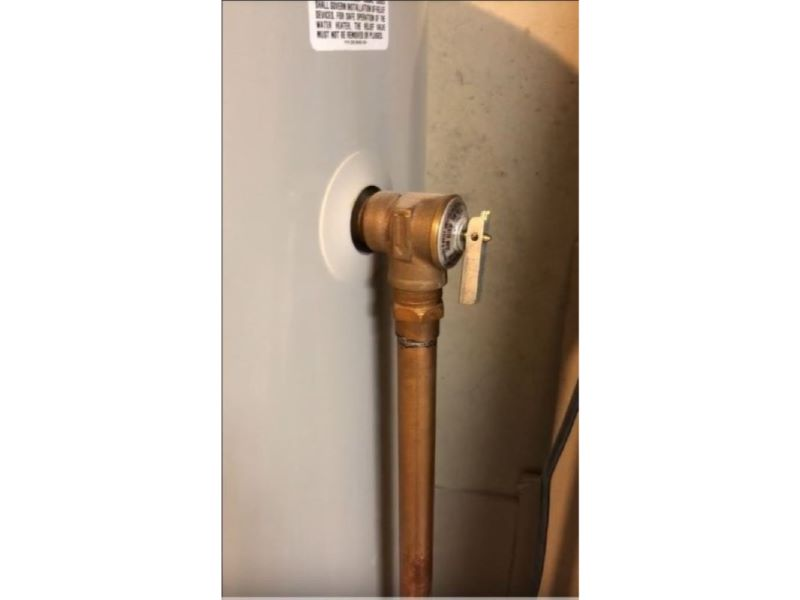Valve: (350, 182, 495, 350)
